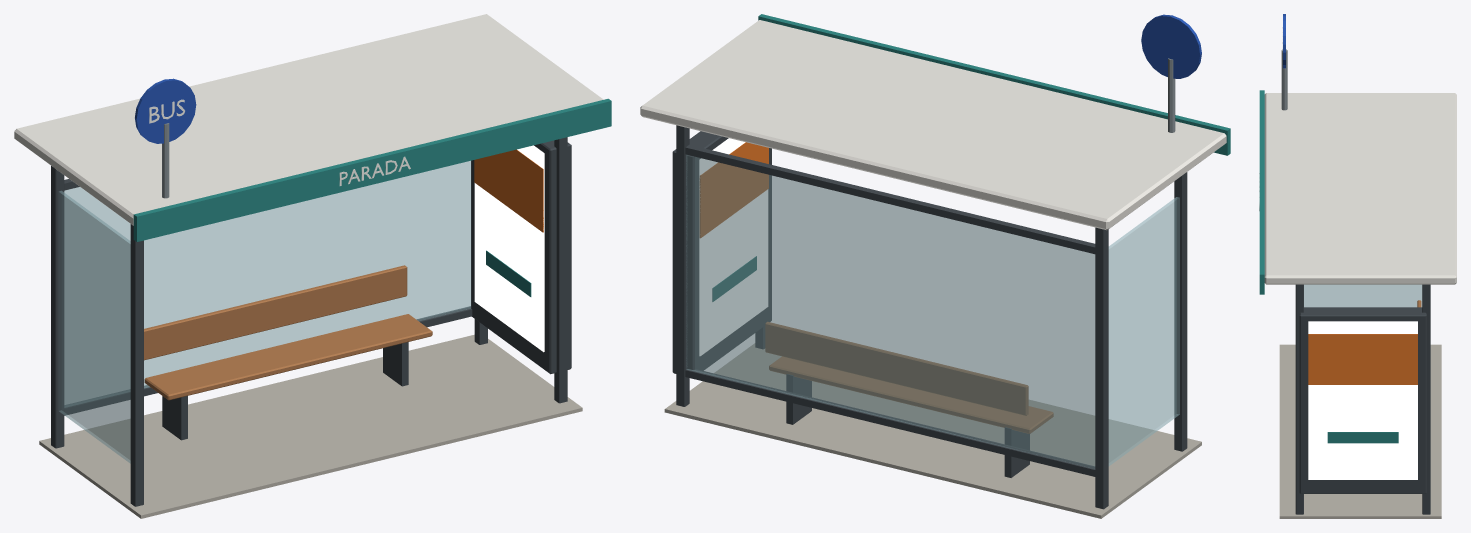
Rendered from BusStop.fbx.
3 renders of one model, left to right at view 1: azimuth 30°, elevation 25°; view 2: azimuth 150°, elevation 25°; view 3: azimuth 270°, elevation 25°, orthographic. The views are drawn at different scales.
Parts seen in each view (by area): view 1: BusStop; view 2: BusStop; view 3: BusStop.
Boxes of the visible parts, x1,y1,x2,y2 form: BusStop: [14, 14, 611, 518]; BusStop: [640, 14, 1230, 518]; BusStop: [1259, 14, 1456, 518].
Size of the model in its own units: 4.3 by 3.72 by 1.95.
